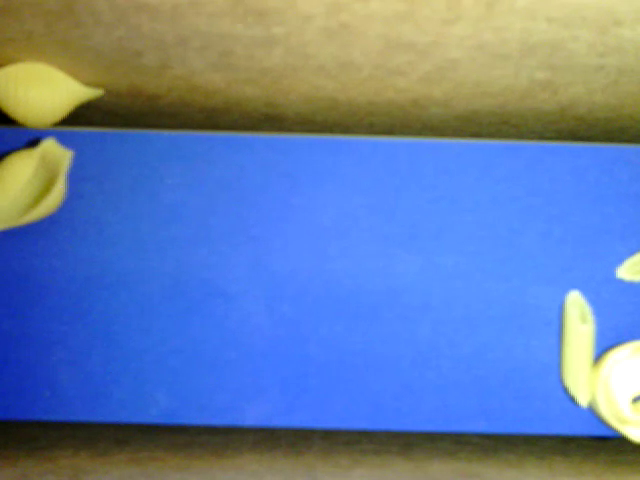penne: (559, 287, 595, 407)
shell: (1, 61, 105, 129), (1, 136, 74, 231)
tortellini: (591, 341, 639, 443)
